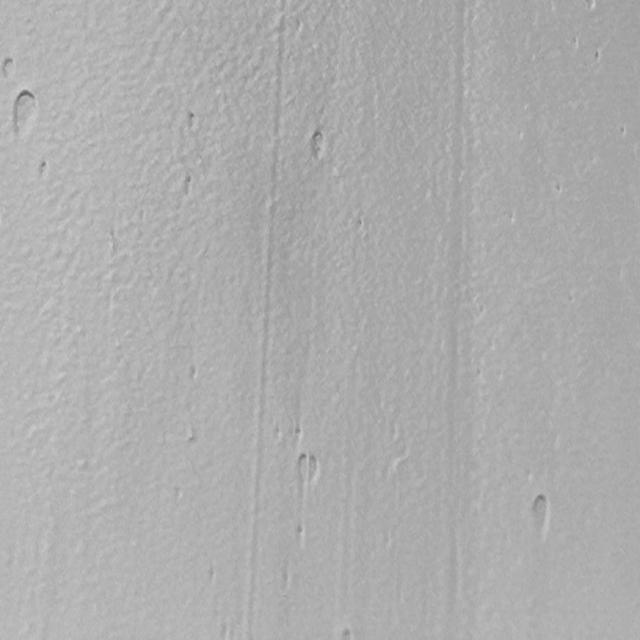pin holes: (10, 89, 42, 139), (529, 493, 555, 533), (308, 129, 328, 161), (293, 450, 309, 484), (0, 55, 18, 79), (34, 156, 51, 181), (180, 173, 197, 198), (308, 454, 322, 484), (293, 522, 309, 548), (280, 561, 291, 591), (186, 431, 203, 448), (186, 111, 200, 131), (188, 366, 202, 385), (338, 626, 356, 640), (583, 0, 599, 13), (592, 48, 604, 65), (552, 182, 565, 197), (618, 124, 630, 140), (208, 562, 217, 582), (293, 426, 304, 442), (275, 427, 282, 441), (176, 487, 183, 499)
